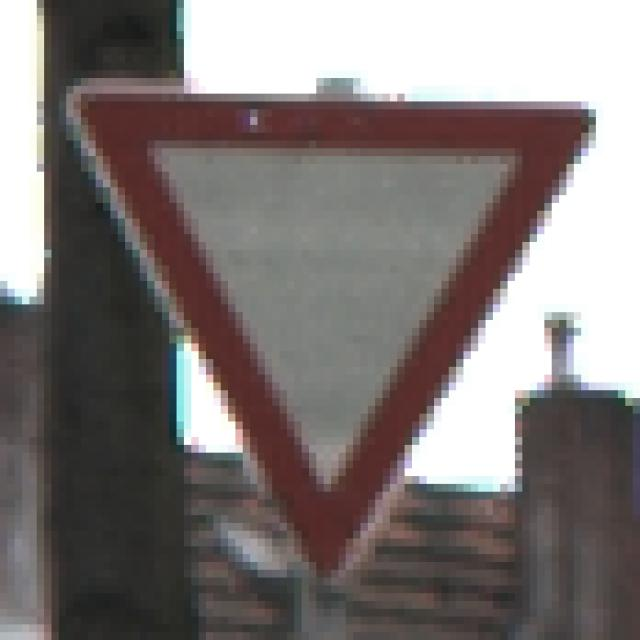Give Way: (60, 64, 589, 587)
